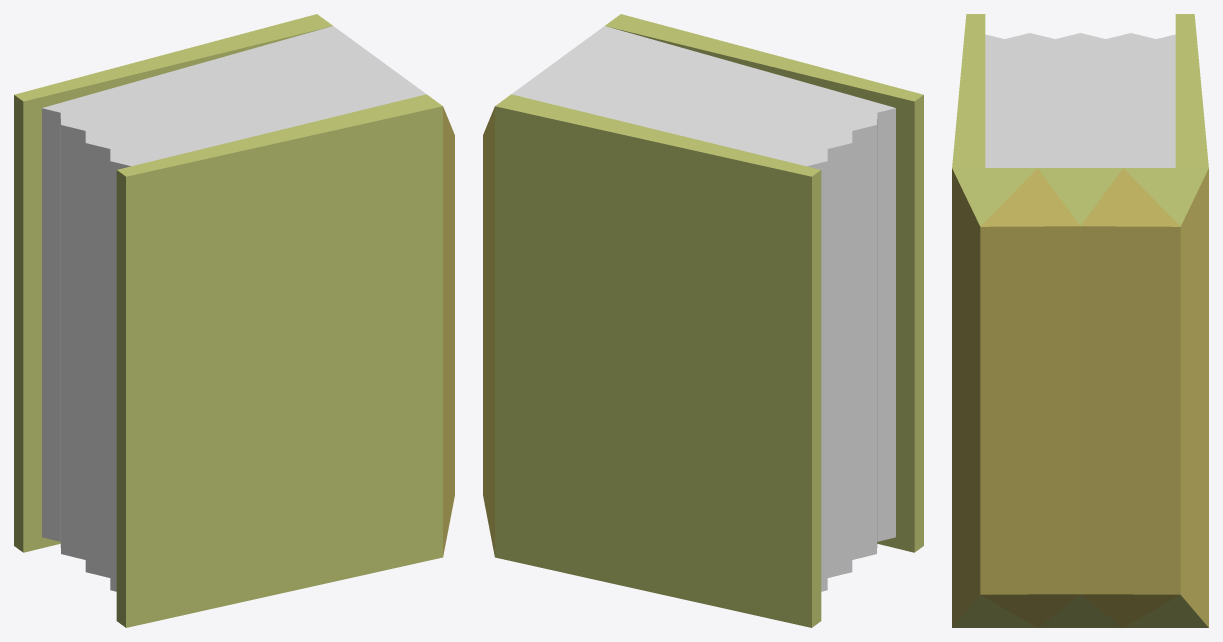
File: Book.fbx
3 renders of one model, left to right at view 1: azimuth 30°, elevation 25°; view 2: azimuth 150°, elevation 25°; view 3: azimuth 270°, elevation 25°, orthographic.
Visible parts, largest first — view 1: Book.001; view 2: Book.001; view 3: Book.001.
Boxes of the visible parts, x1=… form: Book.001: x1=14, y1=14, x2=454, y2=627; Book.001: x1=483, y1=14, x2=923, y2=627; Book.001: x1=952, y1=14, x2=1208, y2=627.
Size of the model in its own units: 598 by 768 by 389.
